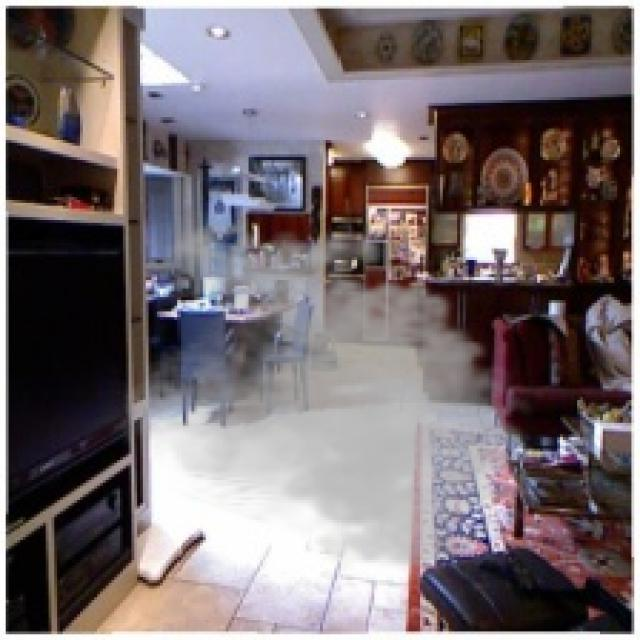Smoke: (120, 208, 543, 578)
